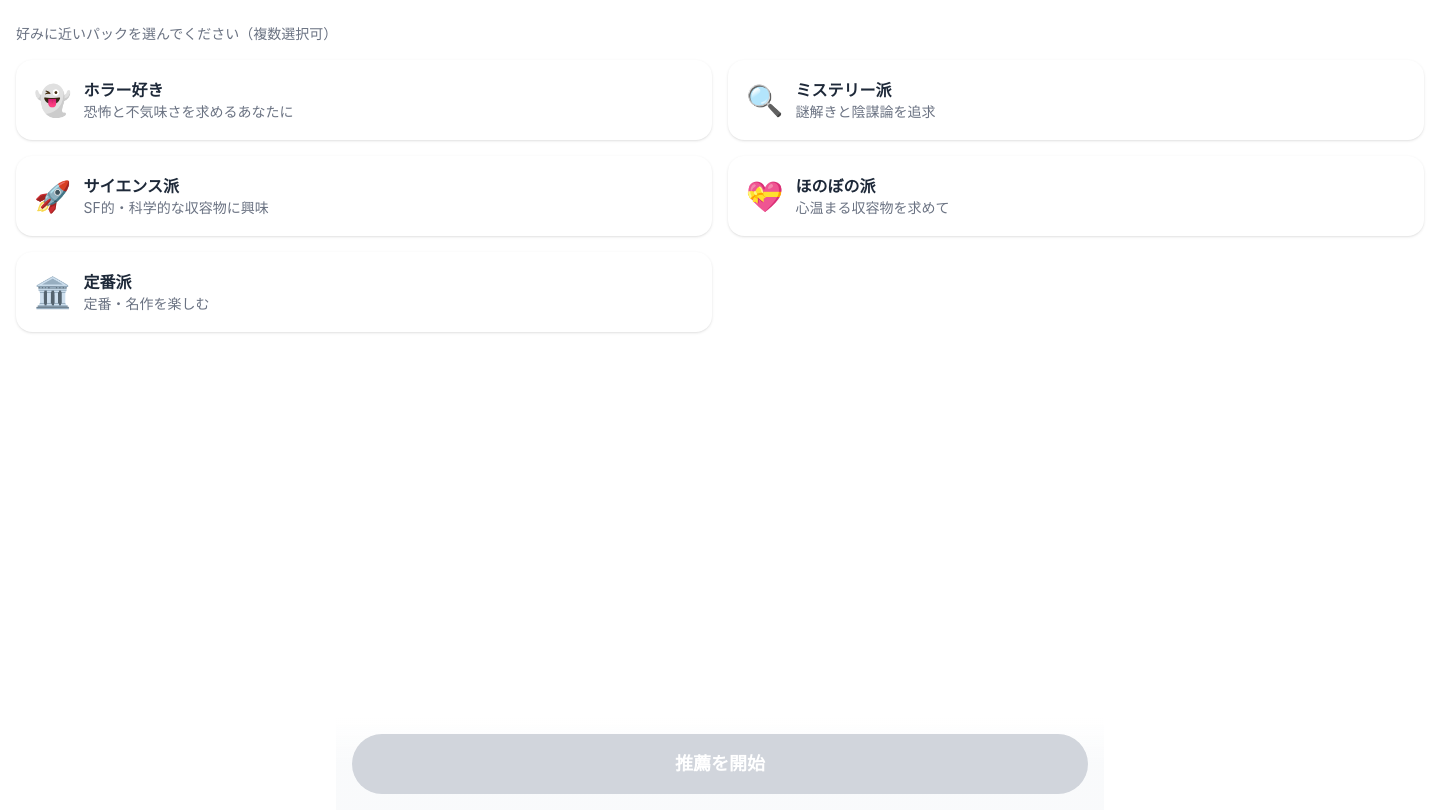
Test case: PackSelector › AC-2: パック選択（複数選択対応） › 選択したパックを再度クリックすると選択解除される
Expected: the heading "ホラー好き" is shown, [83,80,163,100]
Click the button "👻 ホラー好き 恐怖と不気味さを求めるあなたに": (53, 100) [16,60,712,140]
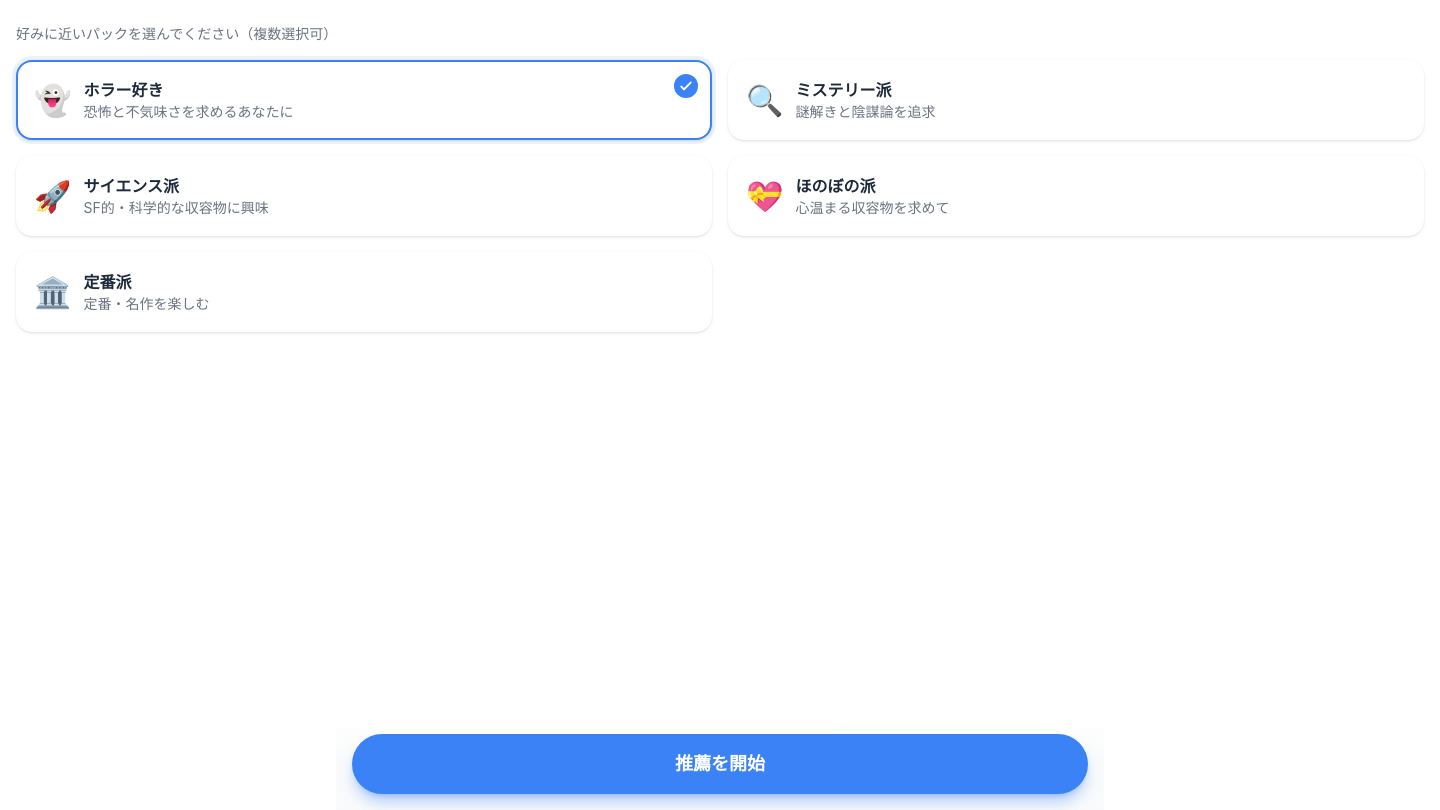
Expected: the element with test id "pack-check" is shown, [674,74,698,98]
Click the button "👻 ホラー好き 恐怖と不気味さを求めるあなたに": (53, 100) [16,60,712,140]
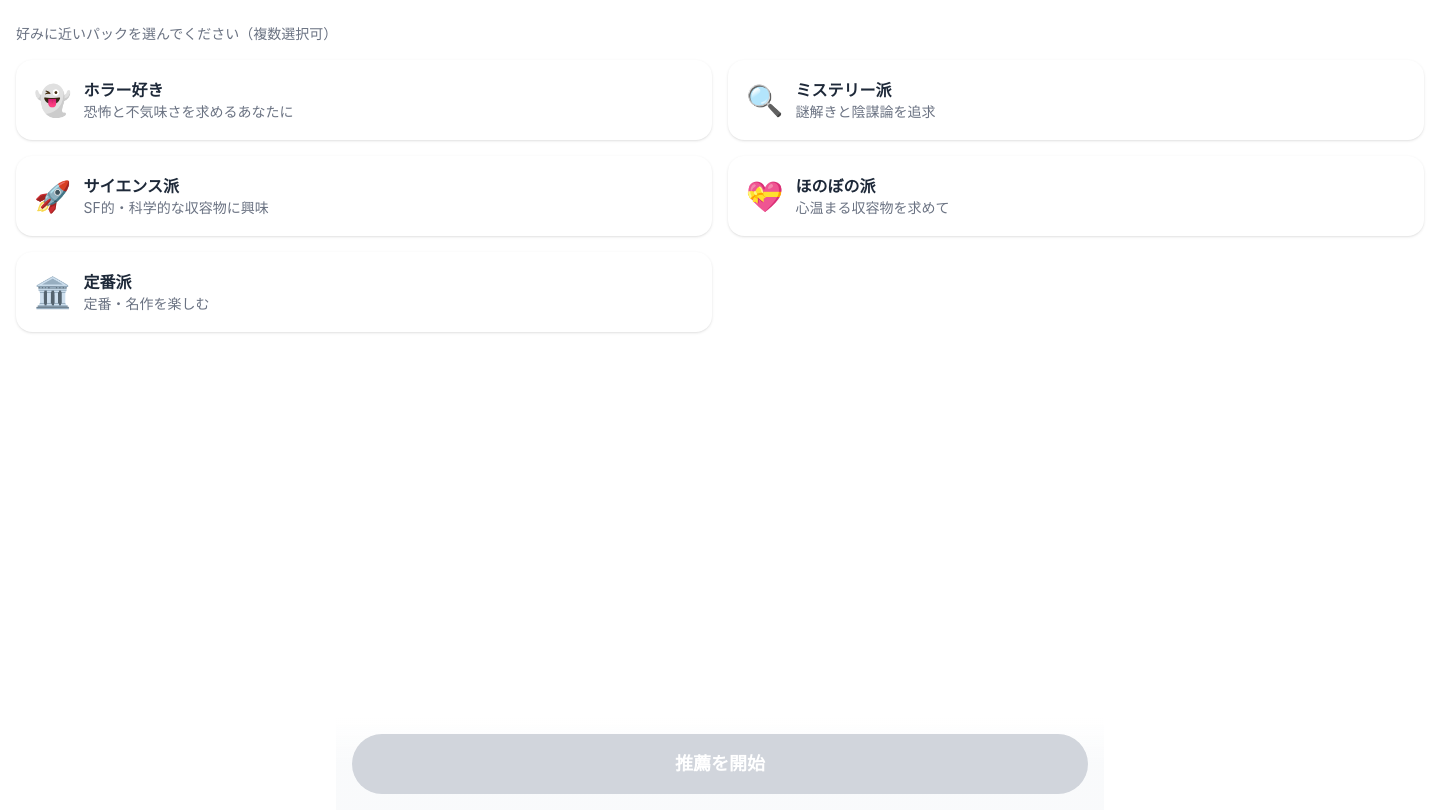
Expected: the element with test id "pack-check" is gone
